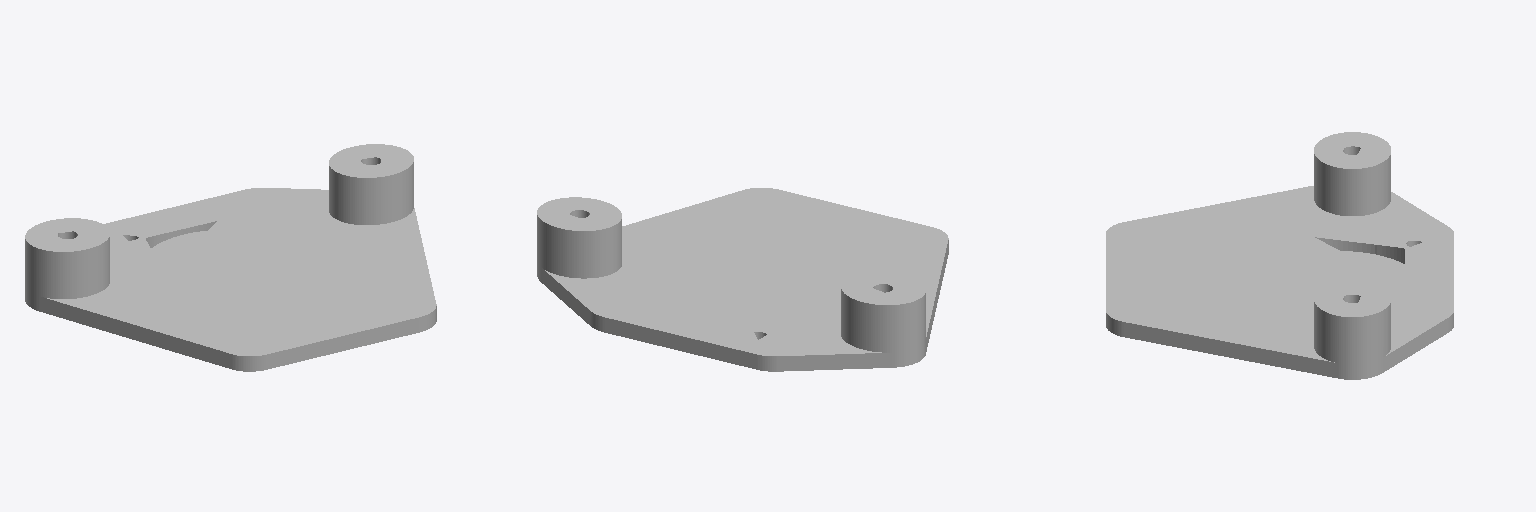
Rendered from Prints_motor_mount.obj.
The picture shows the model from 3 angles: view 1: azimuth 30°, elevation 25°; view 2: azimuth 150°, elevation 25°; view 3: azimuth 270°, elevation 25°; orthographic projection.
Visible parts, largest first — view 1: motor_mount; view 2: motor_mount; view 3: motor_mount.
Boxes of the visible parts, x1=… form: motor_mount: x1=25, y1=144, x2=436, y2=371; motor_mount: x1=537, y1=188, x2=948, y2=371; motor_mount: x1=1106, y1=132, x2=1453, y2=379.
Bounding box in the file's own units: 0.052 × 0.0082 × 0.0414.